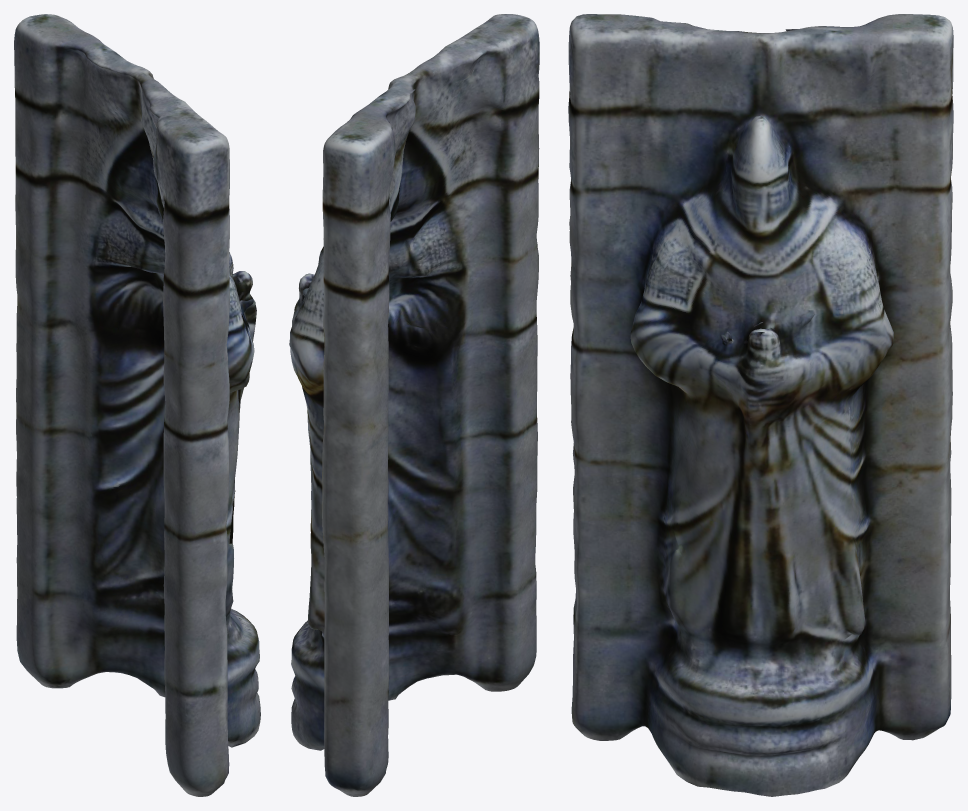
Rendered from caac720f182b_statue_of_a_knight_.fbx.
The picture shows the model from 3 angles, left to right: view 1: azimuth 30°, elevation 25°; view 2: azimuth 150°, elevation 25°; view 3: azimuth 270°, elevation 25°; orthographic projection. The views are drawn at different scales.
Visible parts, largest first — view 1: mesh; view 2: mesh; view 3: mesh.
Boxes of the visible parts, x1,y1,x2,y2 form: mesh: [14, 14, 260, 796]; mesh: [289, 14, 539, 796]; mesh: [568, 14, 953, 796].
Size of the model in its own units: 24.88 by 99.96 by 49.08.
